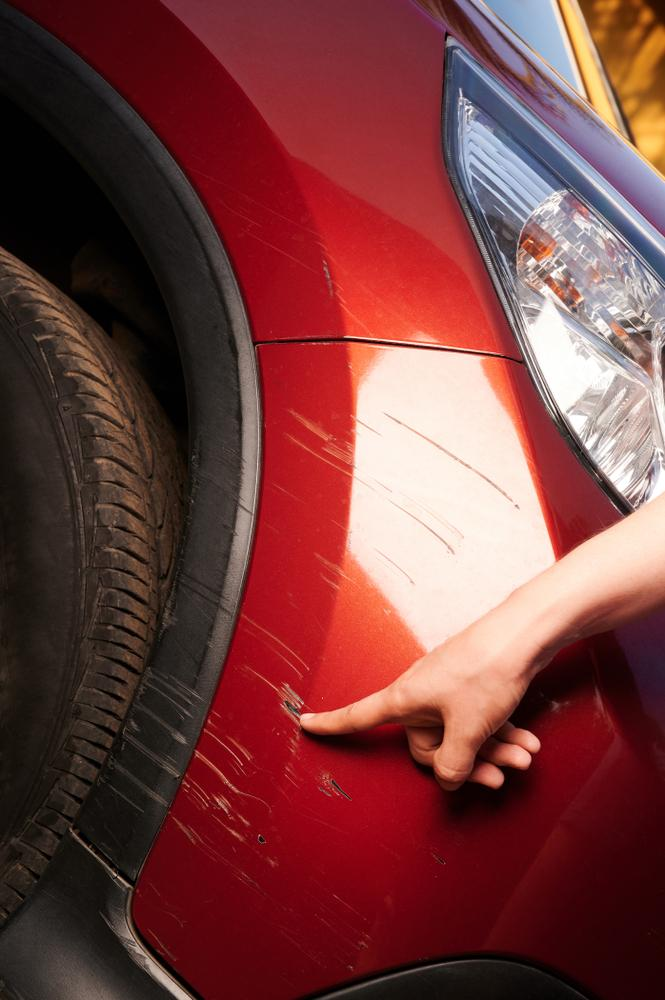scratch: (97, 406, 540, 883)
